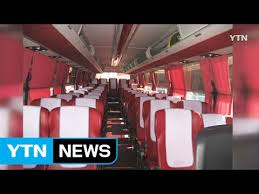seat: (140, 113, 161, 167)
